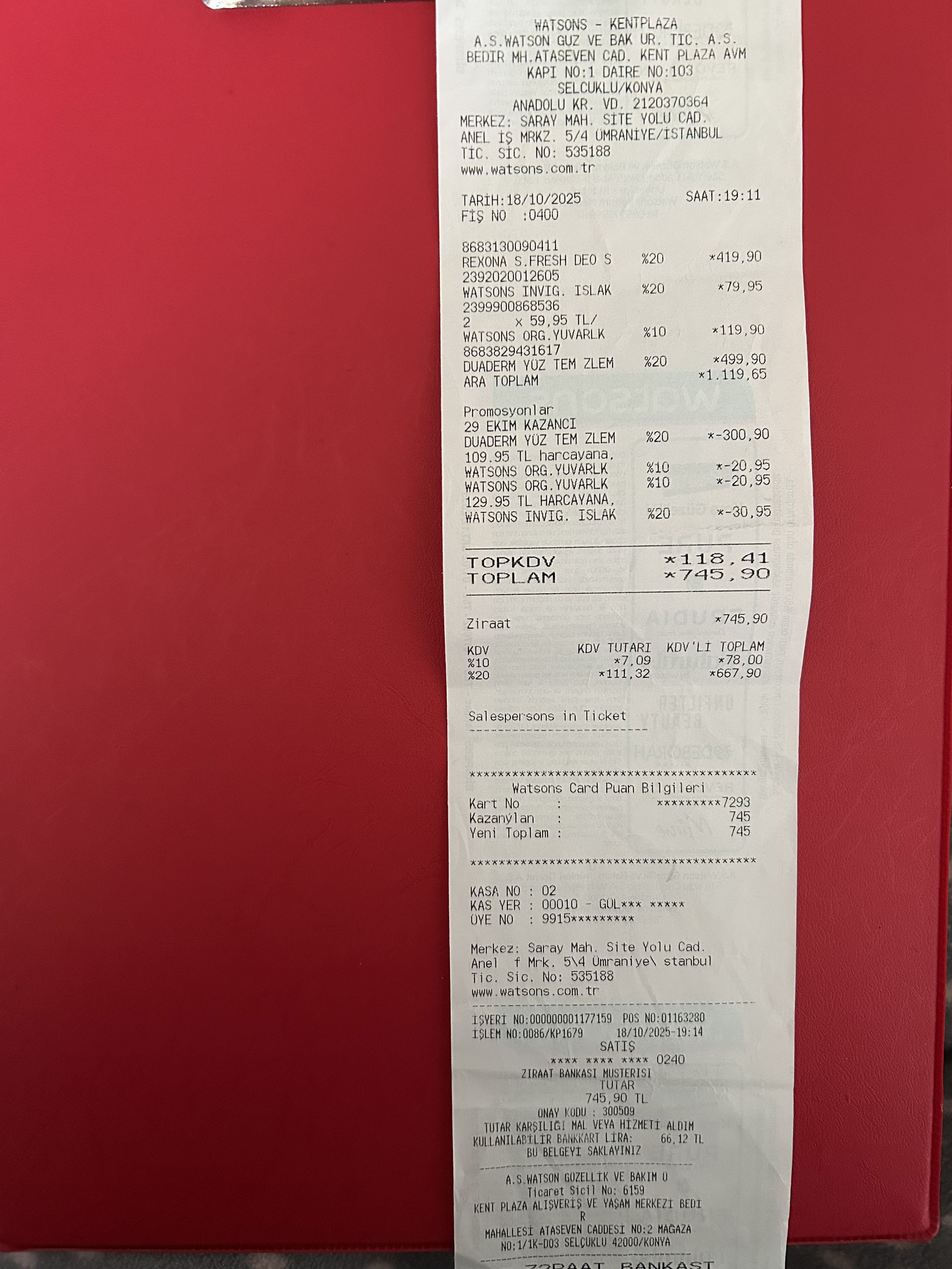date: (675, 566, 776, 583)
price: (504, 190, 586, 207)
workplace: (459, 11, 755, 96)
